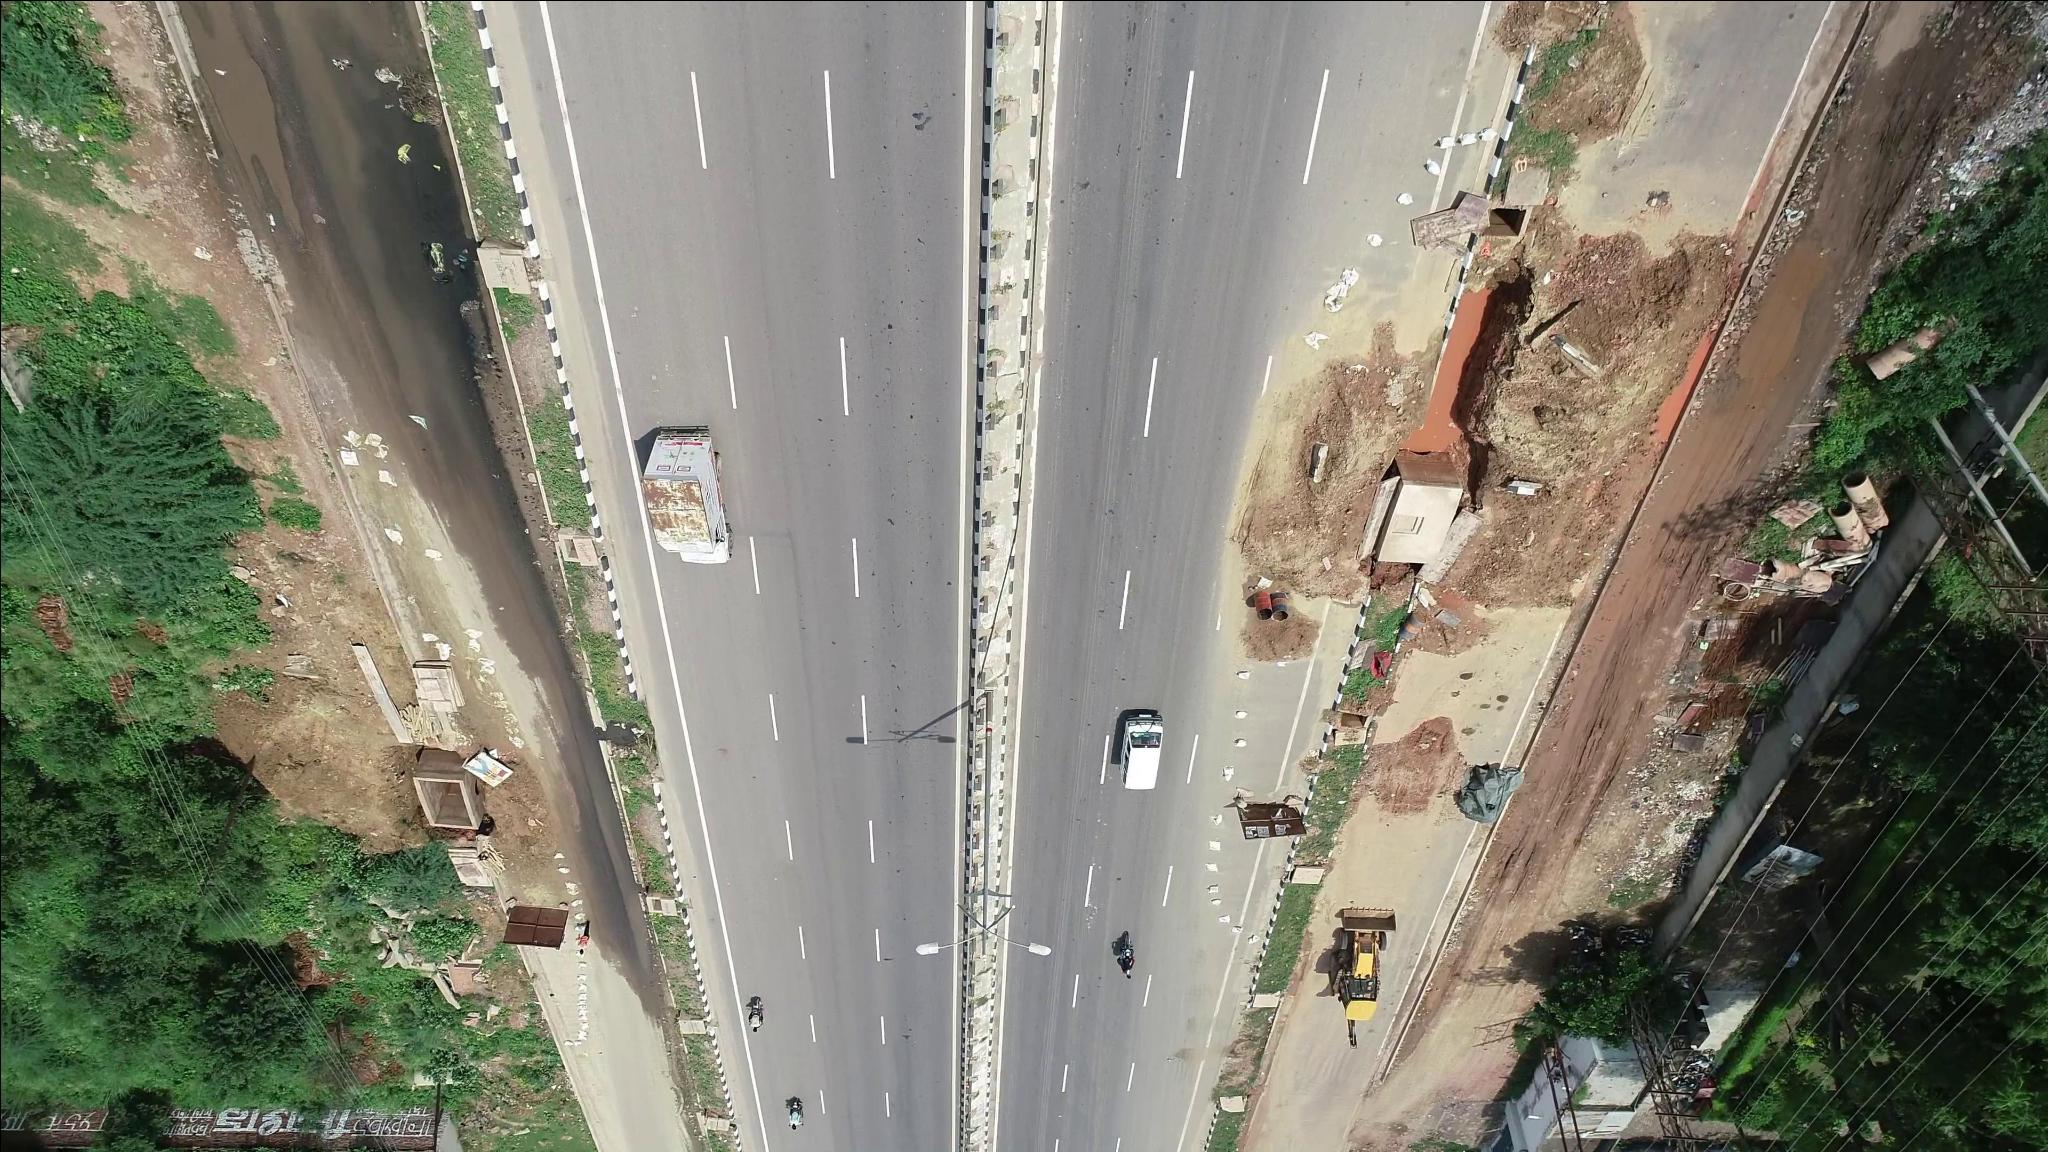Muddy_road: (1236, 359, 1371, 575)
